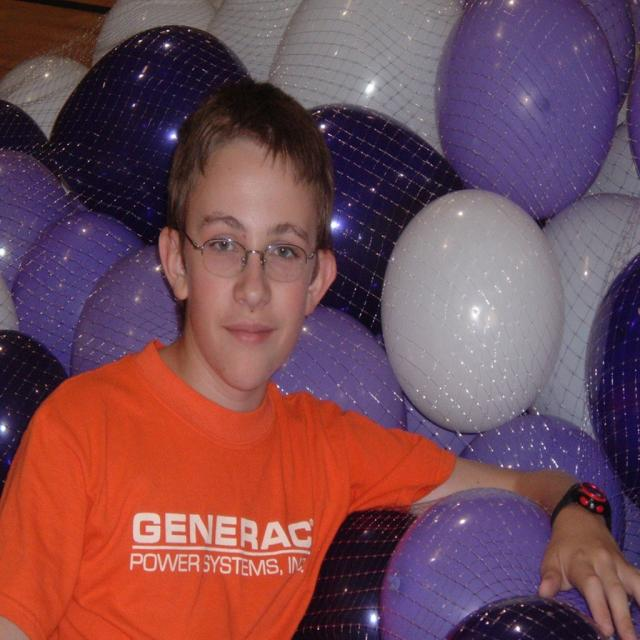Ball: (386, 186, 562, 443), (44, 22, 250, 233), (434, 0, 620, 229), (302, 106, 458, 339), (378, 491, 598, 639), (264, 0, 458, 153), (24, 212, 133, 372), (274, 310, 406, 430), (66, 246, 182, 381), (289, 506, 406, 635), (593, 251, 639, 509), (0, 332, 70, 499), (0, 151, 62, 275), (0, 56, 86, 140), (91, 0, 208, 55), (442, 604, 602, 639)
